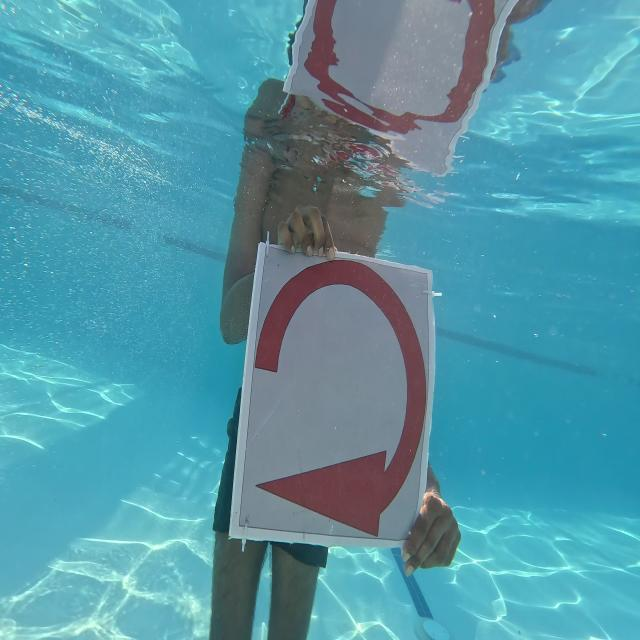red_side: (236, 231, 436, 569)
